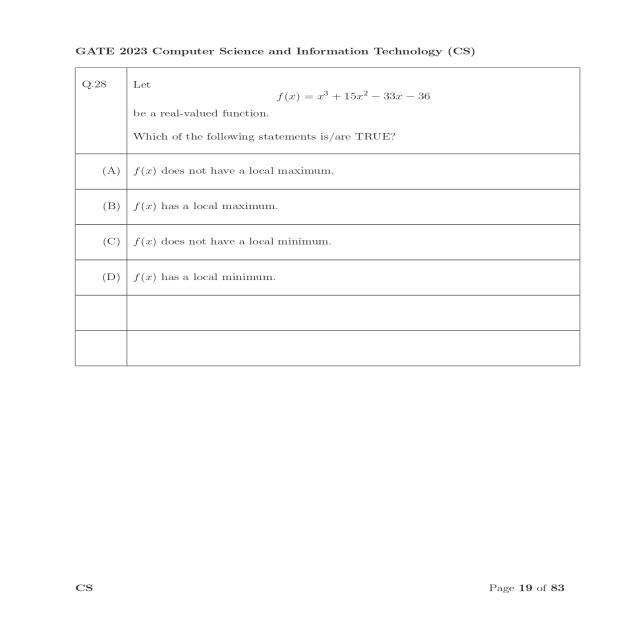Answer_Block: (74, 154, 576, 294)
Instruction: (70, 42, 580, 70)
Question_Answer_Block: (76, 68, 578, 294)
Question_Block: (75, 72, 577, 154)
Question_Paper_Area: (74, 42, 580, 368)
